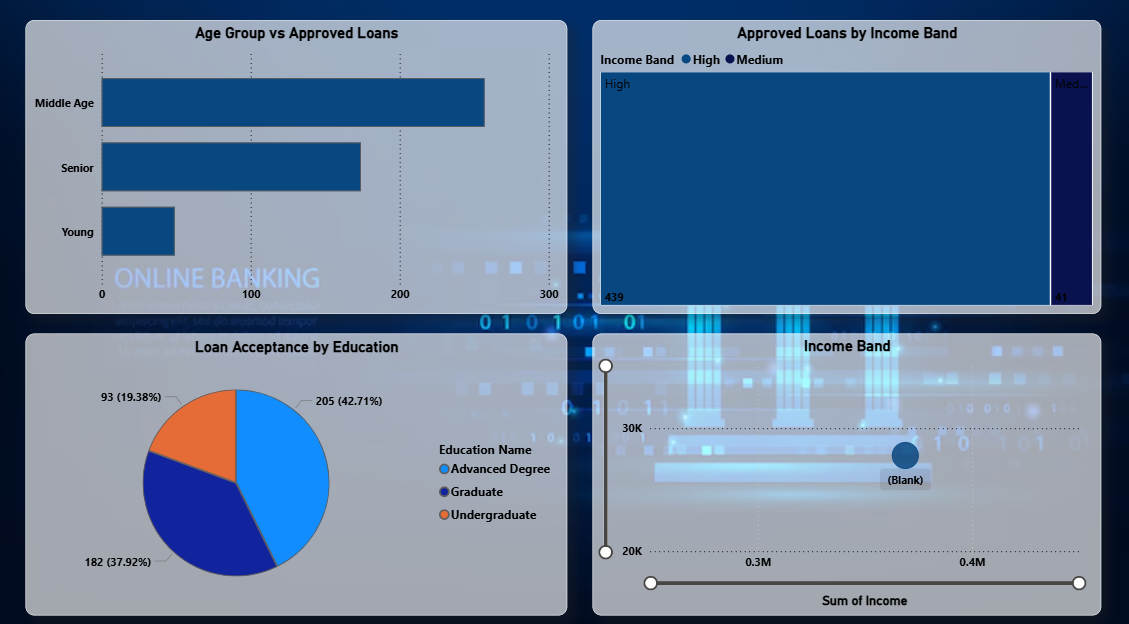

The dashboard page shown, as its layout file describes it:
{"tool":"powerbi","page":{"name":"Page 2","canvas":[1280,720],"ordinal":1},"visuals":[{"type":"barChart","title":"Age Group vs Approved Loans","fields":{"Category":["Data.Age Group"],"Y":["Data.Approved Loans"]},"box":[38.3,33.3,601.7,326.7],"z":0},{"type":"pieChart","title":"Loan Acceptance by Education","fields":{"Category":["Data.Education Name"],"Y":["Data.Approved Loans"]},"box":[38.3,381.7,601.7,313.3],"z":1000},{"type":"treemap","fields":{"Group":["Data.Income Band"],"Values":["Data.Approved Loans"]},"box":[668.3,33.3,565,326.7],"z":2000},{"type":"scatterChart","title":"Income Band","fields":{"X":["Sum(Data.Income)"],"Y":["Sum(Data.Loan Amount)"],"Size":["Sum(Data.Mortgage)"]},"box":[668.3,381.7,565,313.3],"z":3000}]}

Visuals, with their boxes in screenshot pixels (x1, y1, x2, y2), scaled from the page's 1280x720 canvas onto the 1129x624 screenshot:
"Age Group vs Approved Loans" barChart: {"x1": 34, "y1": 29, "x2": 564, "y2": 312}
"Loan Acceptance by Education" pieChart: {"x1": 34, "y1": 331, "x2": 564, "y2": 602}
treemap - Data.Income Band x Data.Approved Loans: {"x1": 589, "y1": 29, "x2": 1088, "y2": 312}
"Income Band" scatterChart: {"x1": 589, "y1": 331, "x2": 1088, "y2": 602}
